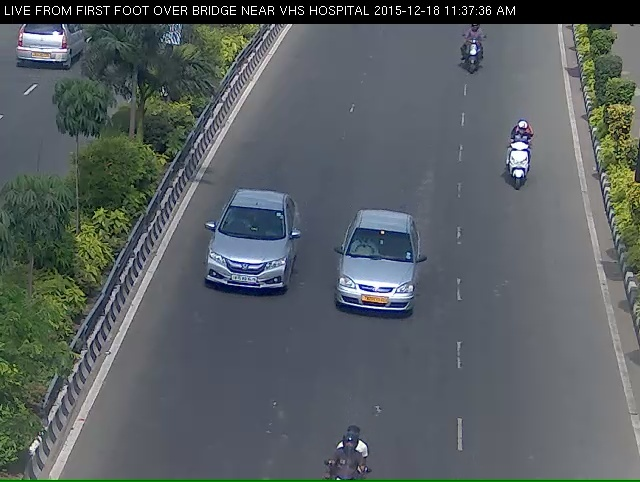Car: (326, 224, 443, 349), (202, 202, 286, 325)
Person: (503, 120, 554, 221), (455, 27, 493, 84)
